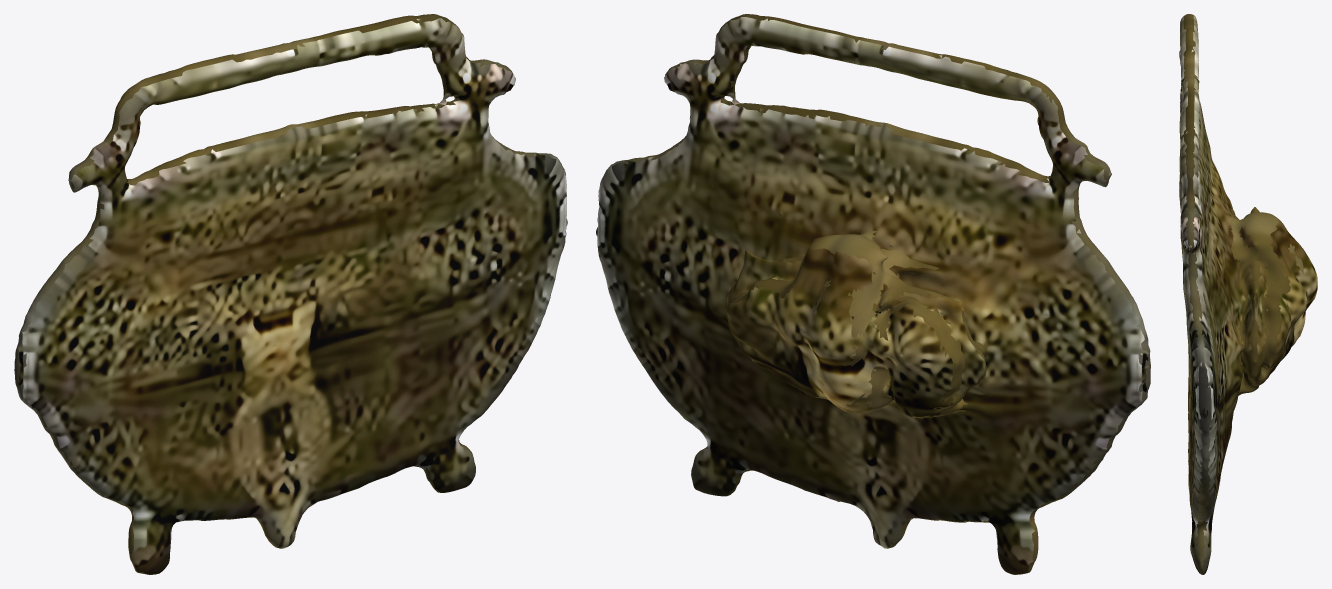
File: kfl-2306.glb
The picture shows the model from 3 angles, left to right: view 1: azimuth 30°, elevation 25°; view 2: azimuth 150°, elevation 25°; view 3: azimuth 270°, elevation 25°; orthographic projection. The views are drawn at different scales.
Visible parts, largest first — view 1: kfl-2306; view 2: kfl-2306; view 3: kfl-2306.
Part boxes in pixels (x1,y1,x2,y2): kfl-2306: (14, 14, 567, 574); kfl-2306: (596, 14, 1150, 574); kfl-2306: (1179, 14, 1317, 574).
Size of the model in its own units: 0.9933 by 0.8699 by 0.2498.
Materials: 4 (4 with a texture image).
